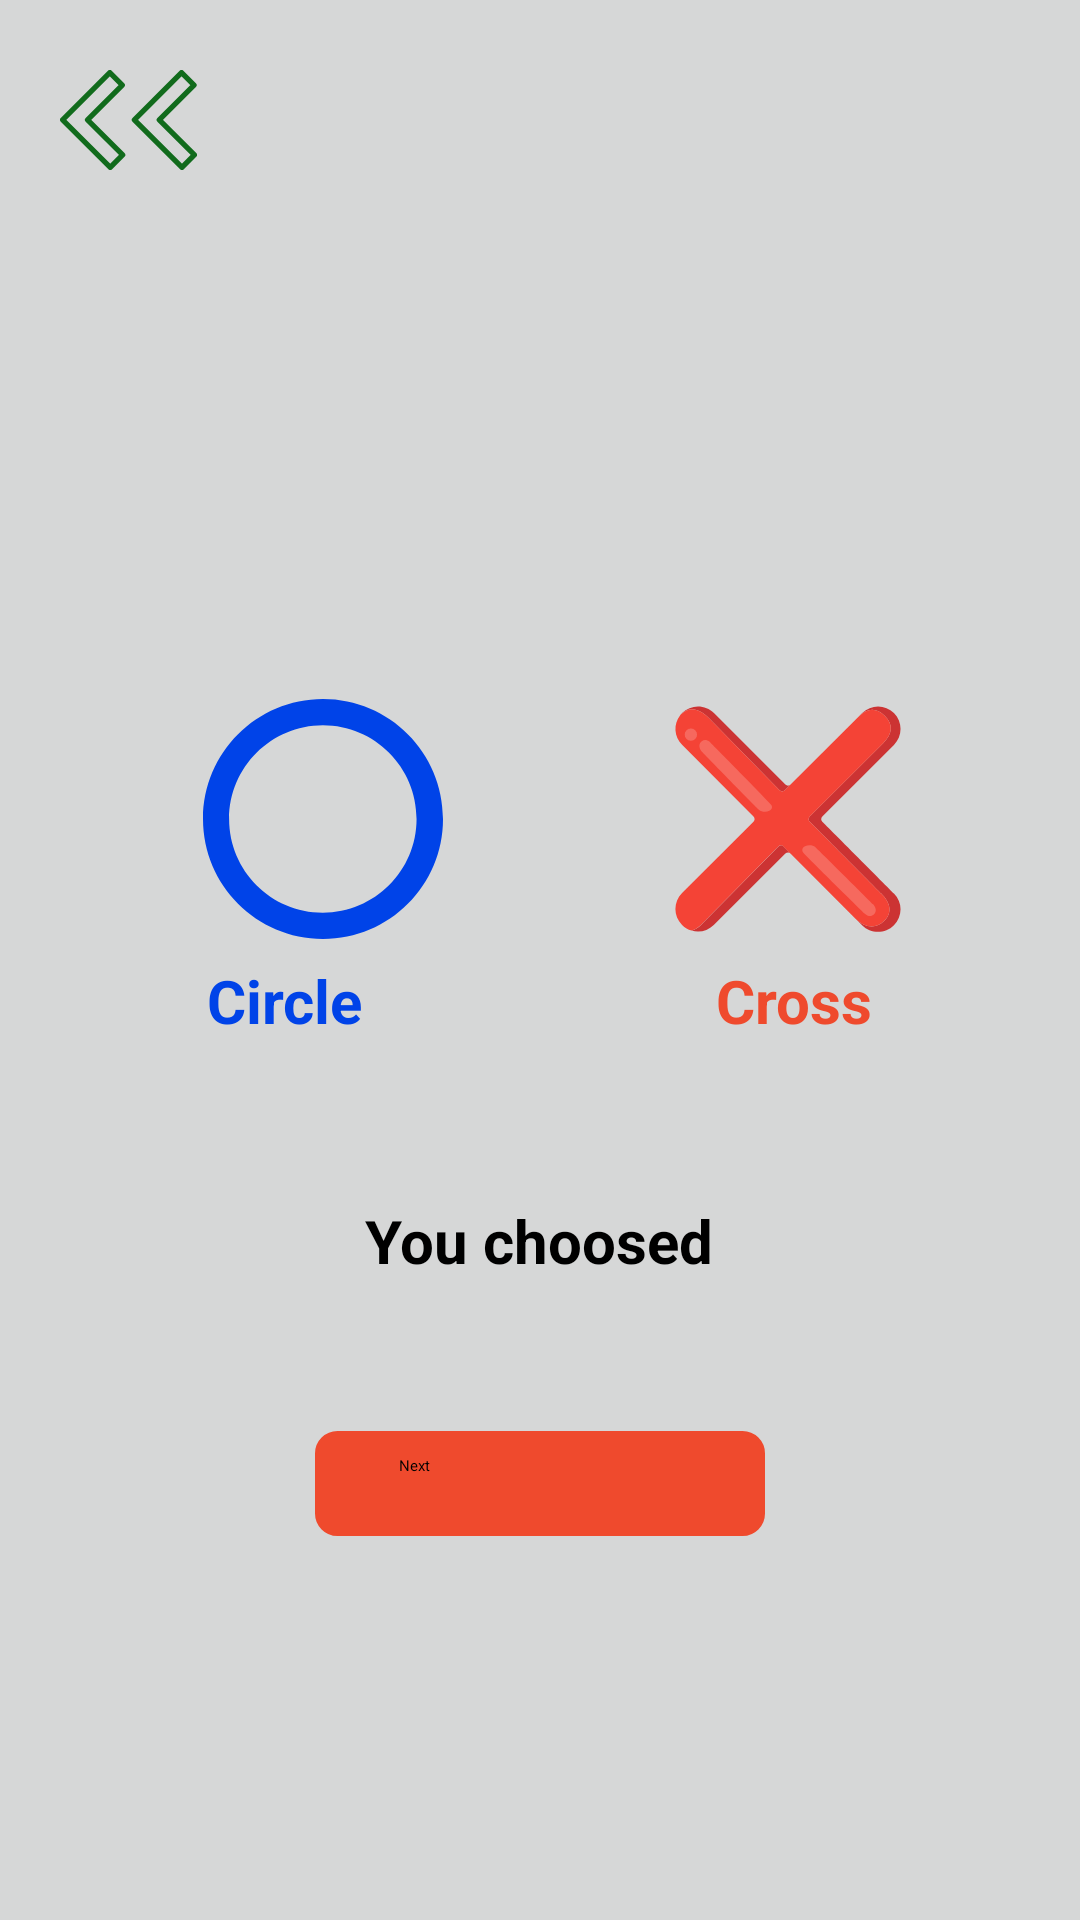

Locate icon controls on the screen. Image size 1080px×1920px, boxes as (x1, y1, x2, y2).
back: (60, 70, 197, 170)
